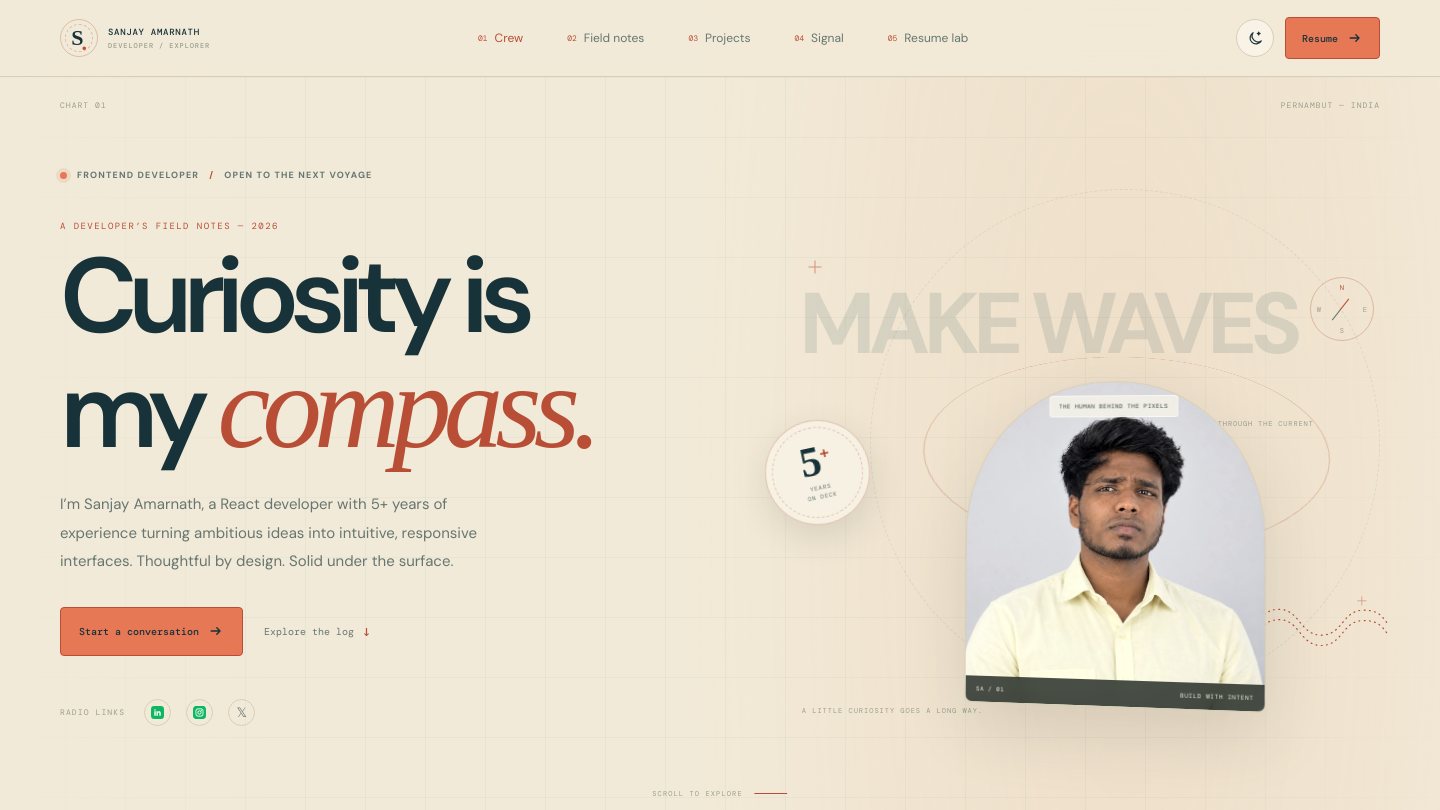
allows switching between light and dark themes
Click the button named "Switch to dark mode" at (1255, 38), box left=1236, top=19, right=1274, bottom=57
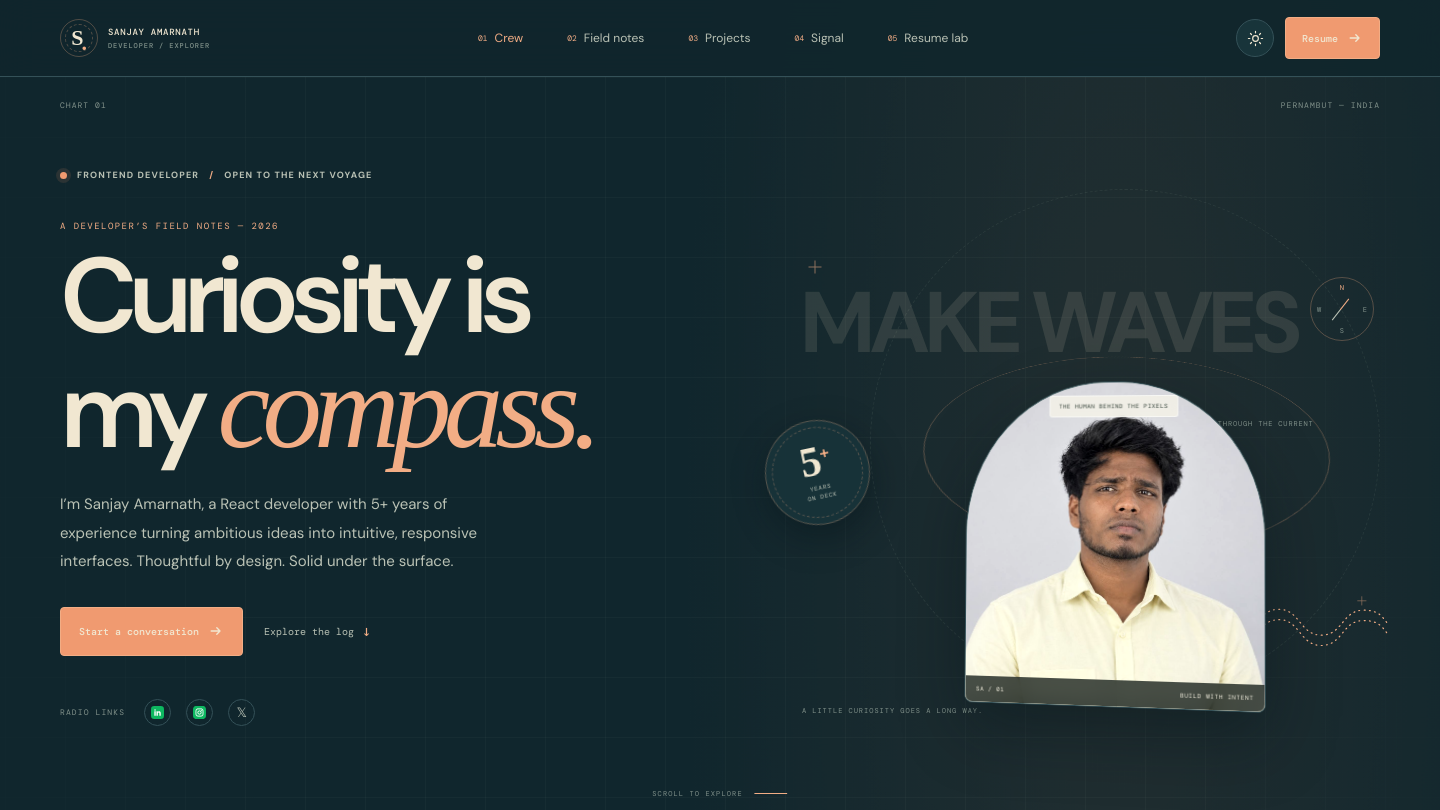
Now the button named "Switch to light mode" is shown, box left=1236, top=19, right=1274, bottom=57
